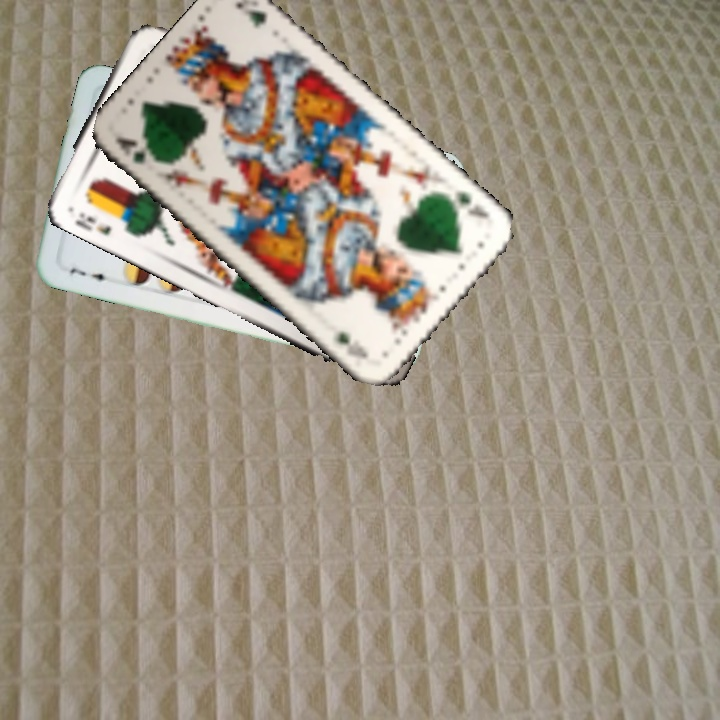E7: (65, 263, 113, 285)
EK: (71, 208, 114, 238)
GK: (449, 186, 496, 228), (110, 131, 163, 168)
